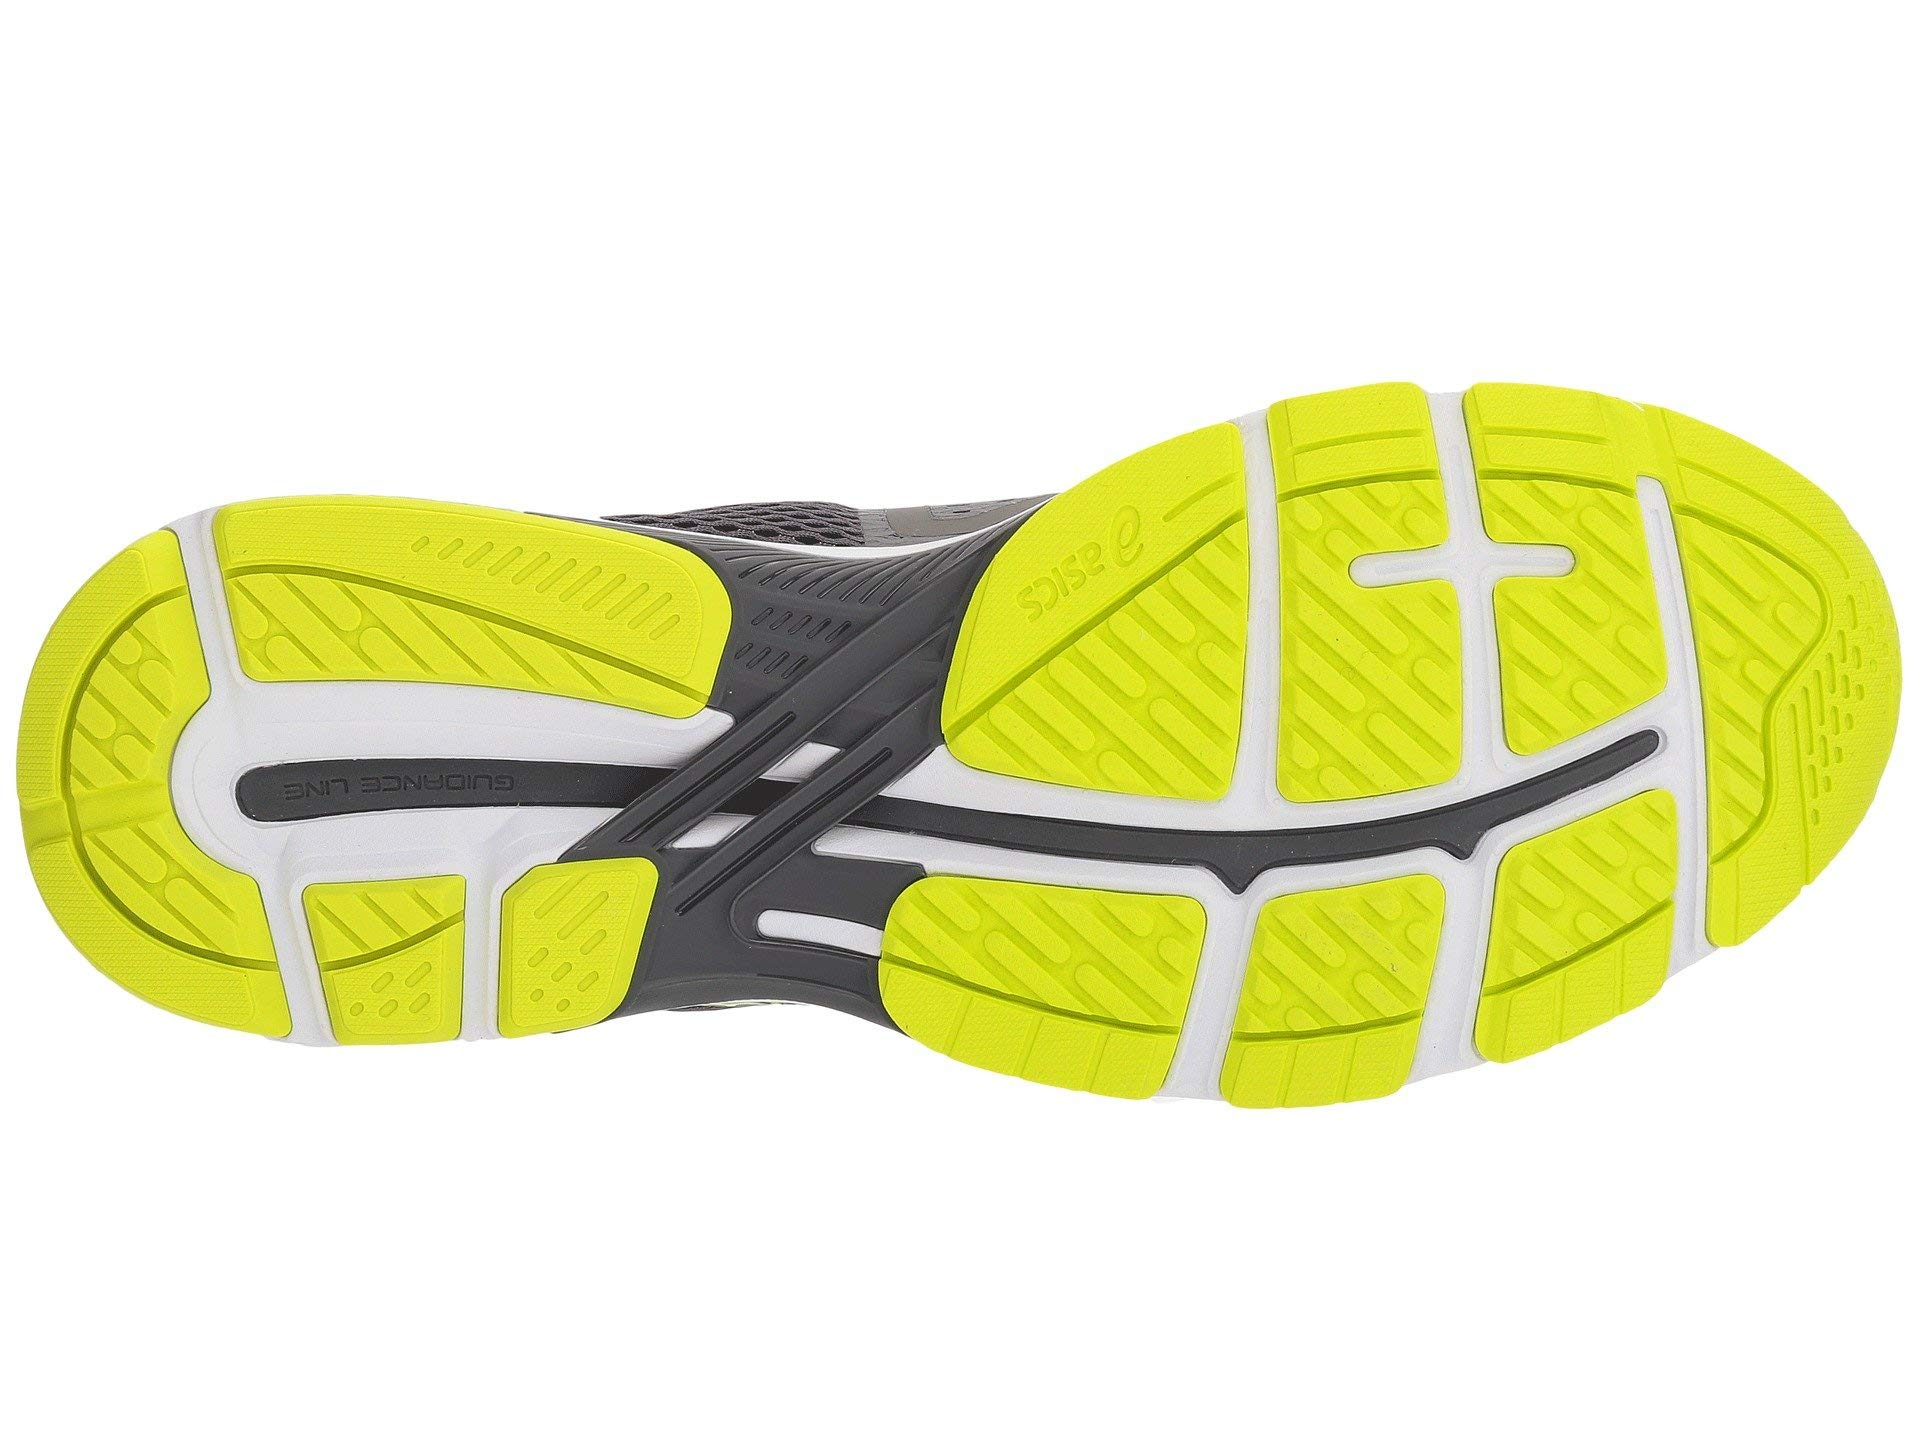circle: (340, 967, 441, 1023)
line: (1285, 392, 1477, 735)
quad: (1285, 392, 1477, 735), (340, 967, 441, 1023)
text: (227, 734, 547, 826)
